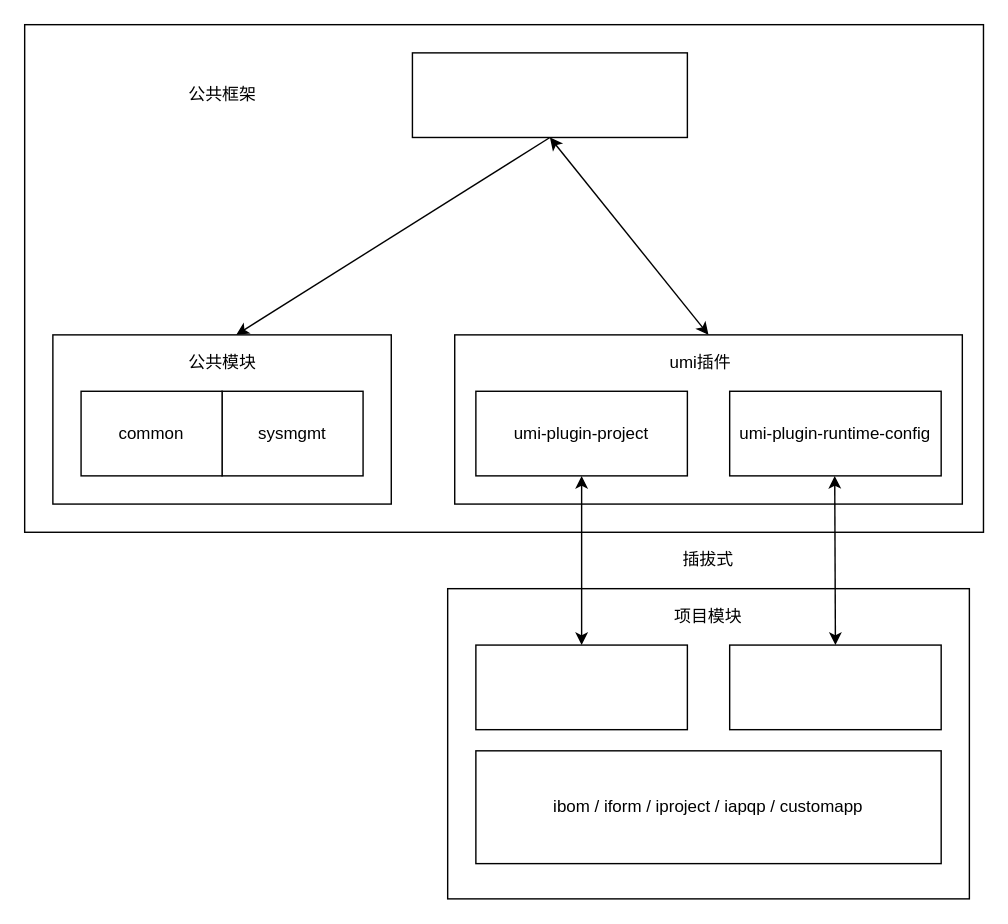
Some shapes in this 1008 by 924 pixel diagram are drawn without their labels. Here are the shapes that lost their labels. From the top down, the centre of each, then its label:
At point (549, 94): "ms-ui-framework（umi app）".
At point (580, 687): "config.json 编译时配置".
At point (834, 687): "config.js 运行时配置".
